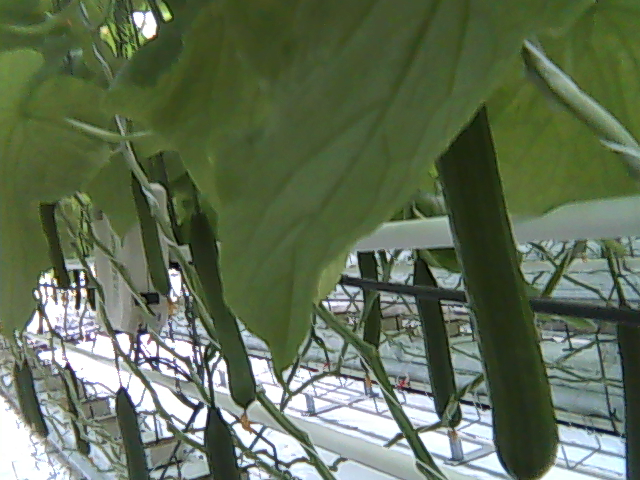concombre: (432, 103, 562, 480), (185, 208, 263, 432), (200, 404, 246, 480)
